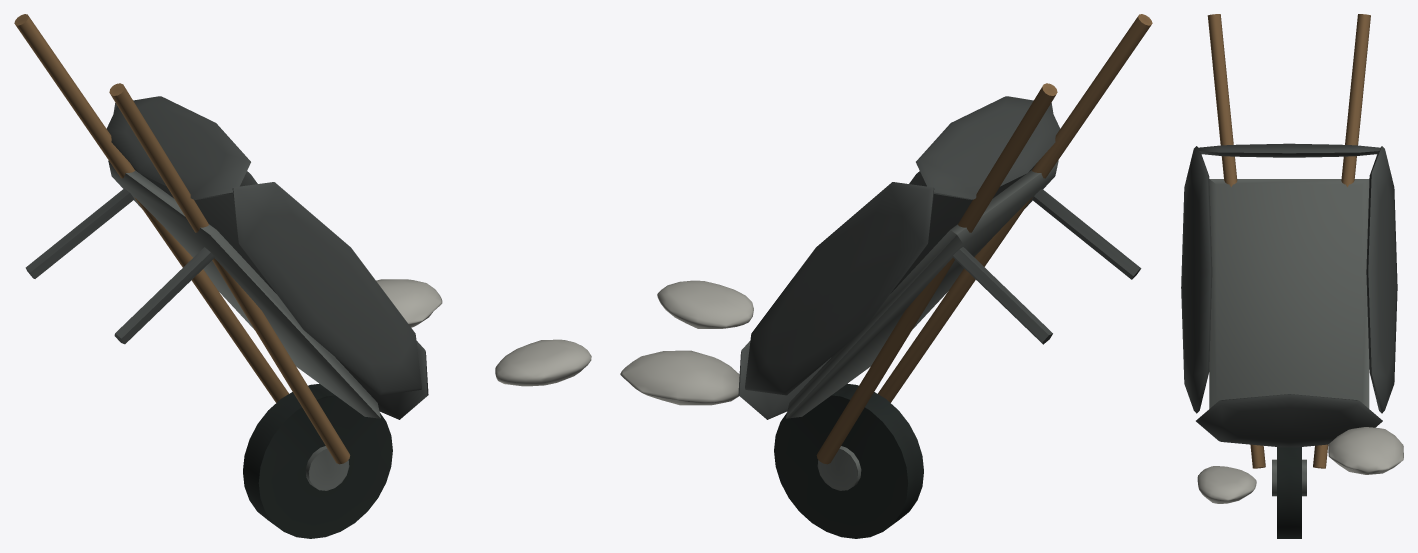
The model's file is wheelbarrow_b.glb.
The picture shows the model from 3 angles, left to right: view 1: azimuth 30°, elevation 25°; view 2: azimuth 150°, elevation 25°; view 3: azimuth 270°, elevation 25°; orthographic projection. The views are drawn at different scales.
Parts seen in each view (by area): view 1: Surface; view 2: Surface; view 3: Surface.
Part boxes in pixels (x1,y1,x2,y2): Surface: (14,14,591,538); Surface: (620,14,1152,538); Surface: (1181,14,1403,538).
Size of the model in its own units: 1.76 by 1.88 by 0.8896.
